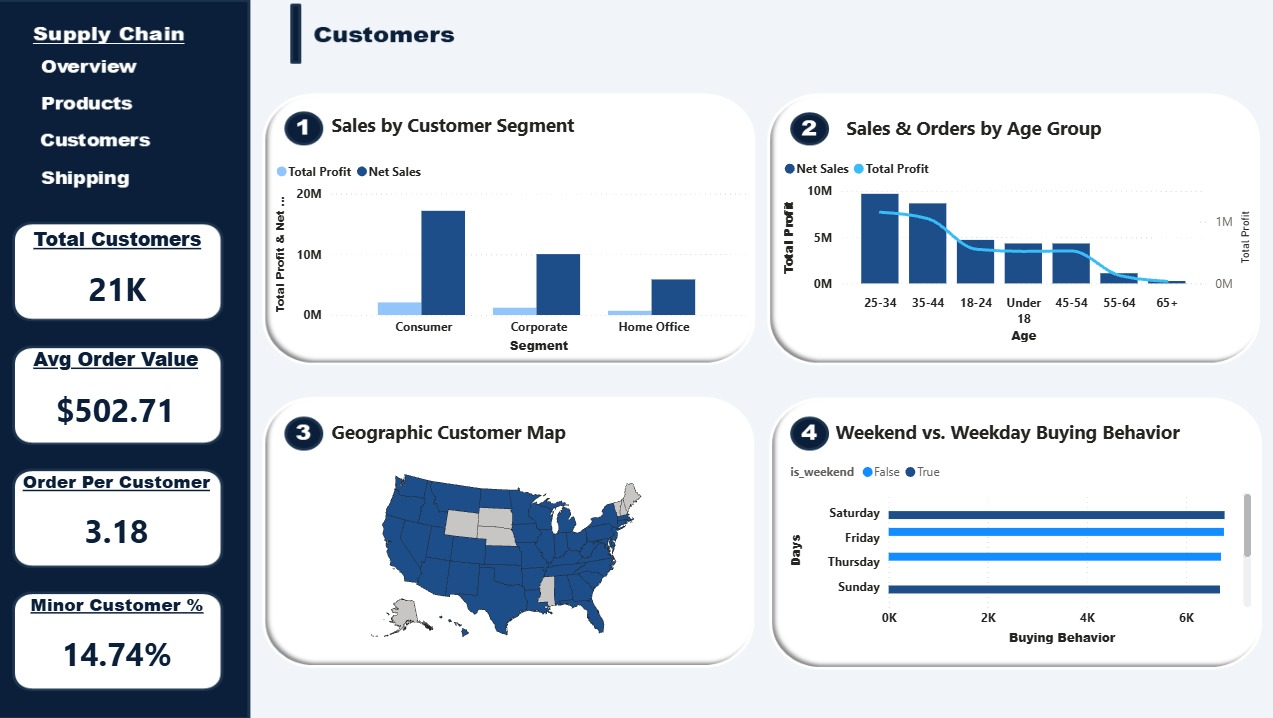

The page's visual inventory and layout, read from the dashboard file:
{"tool":"powerbi","page":{"name":"Customers","canvas":[1280,720],"ordinal":2},"visuals":[{"type":"cardVisual","title":"Total Customers","fields":{"Data":["Gold FactOrders.Total Customers"]},"box":[20.4,226.1,199.2,97.1],"z":0},{"type":"cardVisual","title":"Avg Order Value","fields":{"Data":["Gold FactOrders.Average Order Value"]},"box":[18.7,346.7,198.7,97.3],"z":1000},{"type":"cardVisual","title":"Order Per Customer","fields":{"Data":["Gold FactOrders.Orders per Customer"]},"box":[18.7,470.7,200,96],"z":2000},{"type":"cardVisual","title":"Minor Customer %","fields":{"Data":["Gold FactOrders.Minor Customers %"]},"box":[20,593.3,198.7,97.3],"z":3000},{"type":"clusteredColumnChart","fields":{"Category":["Gold DimCustomers.segment"],"Y":["Gold FactOrders.Total Profit","Gold FactOrders.Net Sales"]},"box":[273.3,152,481.3,208],"z":3001},{"type":"textbox","box":[329.3,106.7,272,42.7],"z":3002},{"type":"lineClusteredColumnComboChart","fields":{"Category":["Gold DimCustomers.age_group"],"Y":["Gold FactOrders.Net Sales"],"Y2":["Gold FactOrders.Total Profit"]},"box":[782.7,149.3,478.7,200],"z":3003},{"type":"textbox","box":[845.3,109.3,272,42.7],"z":3004},{"type":"shapeMap","fields":{"Category":["Gold DimCustomers.state"]},"box":[273.3,461.3,472,190.7],"z":3005},{"type":"textbox","box":[329.3,414.7,286.7,46.7],"z":3006},{"type":"clusteredBarChart","fields":{"Category":["Gold DimDate.day_name"],"Y":["Gold FactOrders.Total Orders"],"Series":["Gold DimDate.is_weekend"]},"box":[789.3,453.3,472,198.7],"z":3007},{"type":"textbox","box":[834.7,414.7,372,38.7],"z":3008}]}

Visuals, with their boxes in screenshot pixels (x1, y1, x2, y2), scaled from the page's 1280x720 canvas onto the 1273x718 screenshot:
"Total Customers" cardVisual: bbox=[20, 225, 218, 322]
"Avg Order Value" cardVisual: bbox=[19, 346, 216, 443]
"Order Per Customer" cardVisual: bbox=[19, 469, 218, 565]
"Minor Customer %" cardVisual: bbox=[20, 592, 218, 689]
clusteredColumnChart - Gold DimCustomers.segment x Gold FactOrders.Total Profit: bbox=[272, 152, 750, 359]
textbox: bbox=[327, 106, 598, 149]
lineClusteredColumnComboChart - Gold DimCustomers.age_group x Gold FactOrders.Net Sales: bbox=[778, 149, 1255, 348]
textbox: bbox=[841, 109, 1111, 152]
shapeMap - Gold DimCustomers.state: bbox=[272, 460, 741, 650]
textbox: bbox=[327, 414, 613, 460]
clusteredBarChart - Gold DimDate.day_name x Gold FactOrders.Total Orders: bbox=[785, 452, 1254, 650]
textbox: bbox=[830, 414, 1200, 452]
